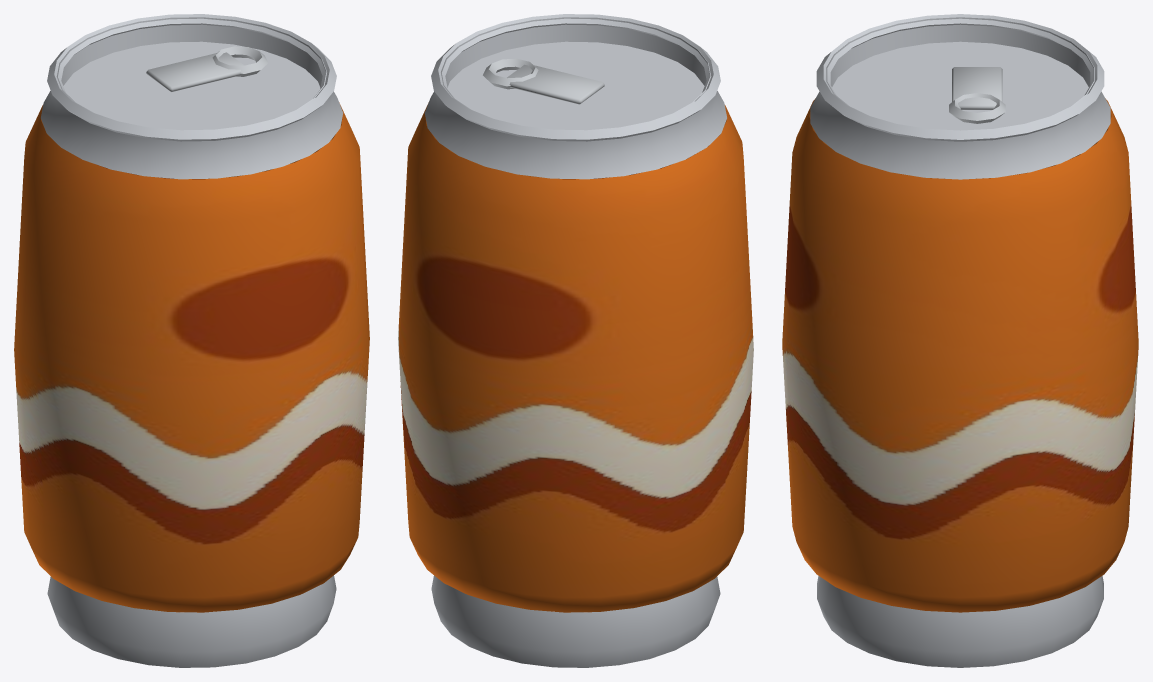
File: can_orange_soda.glb
3 renders of one model, left to right at view 1: azimuth 30°, elevation 25°; view 2: azimuth 150°, elevation 25°; view 3: azimuth 270°, elevation 25°, orthographic.
Visible parts, largest first — view 1: can_orange_soda; view 2: can_orange_soda; view 3: can_orange_soda.
Boxes of the visible parts, x1=… form: can_orange_soda: x1=14, y1=14, x2=369, y2=667; can_orange_soda: x1=398, y1=14, x2=753, y2=667; can_orange_soda: x1=782, y1=14, x2=1138, y2=667.
Bounding box in the file's own units: 0.07 × 0.1164 × 0.07.
Materials: 4 (1 with a texture image).
